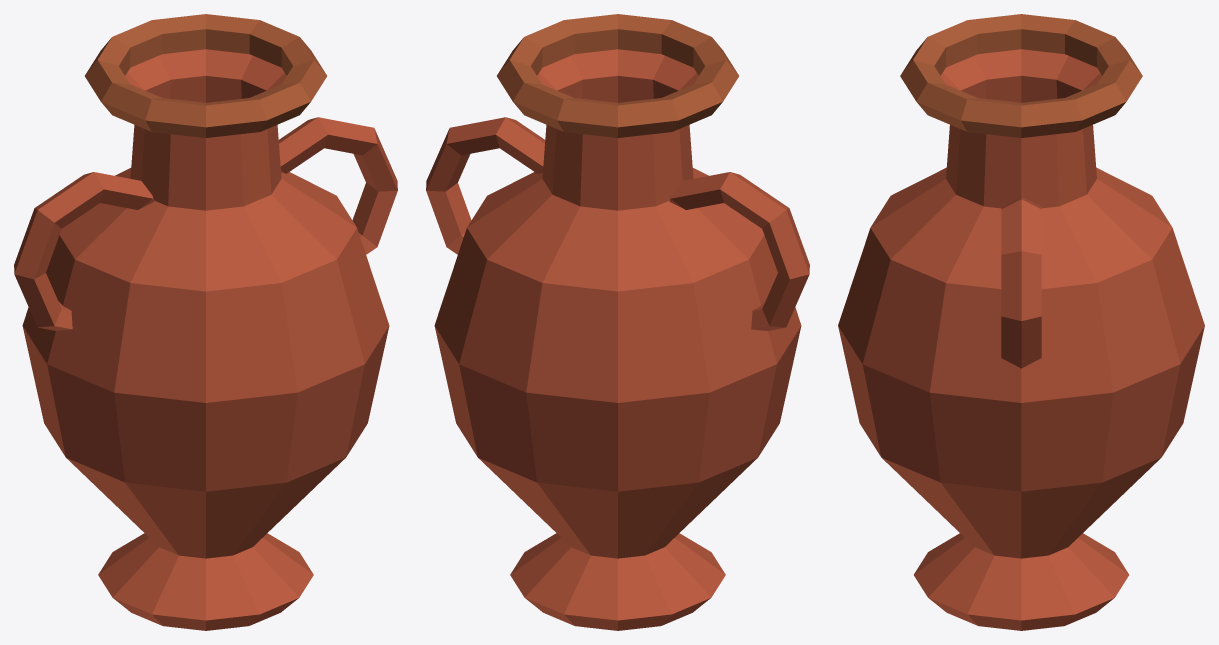
File: hd_urn.gltf
3 views of the same model, side by side, from view 1: azimuth 30°, elevation 25°; view 2: azimuth 150°, elevation 25°; view 3: azimuth 270°, elevation 25° (orthographic).
Visible parts, largest first — view 1: urn, rim, h3.141592653589793, h0; view 2: urn, rim, h3.141592653589793, h0; view 3: urn, rim, h0.
Boxes of the visible parts, left/top/right/bottom form: urn: left=22, top=49, right=389, bottom=630; rim: left=85, top=14, right=326, bottom=137; h3.141592653589793: left=14, top=172, right=154, bottom=330; h0: left=278, top=117, right=397, bottom=254; urn: left=434, top=49, right=801, bottom=630; rim: left=497, top=14, right=738, bottom=137; h3.141592653589793: left=669, top=172, right=809, bottom=330; h0: left=426, top=117, right=545, bottom=254; urn: left=838, top=49, right=1204, bottom=630; rim: left=900, top=14, right=1142, bottom=137; h0: left=1001, top=197, right=1041, bottom=368.
Bounding box in the file's own units: 0.82 × 1.09 × 0.68.
